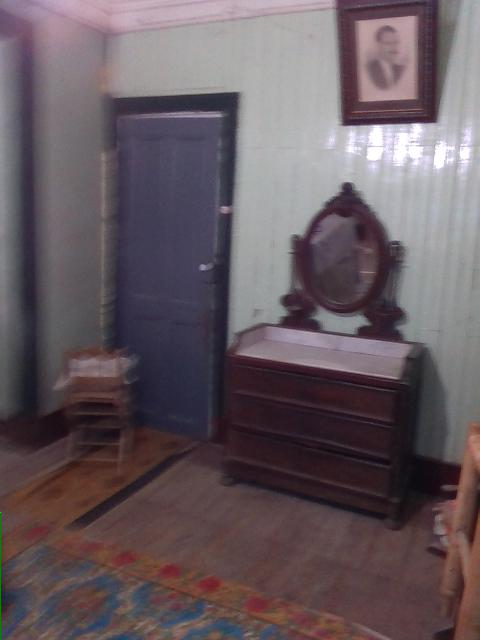door: (106, 87, 247, 444)
